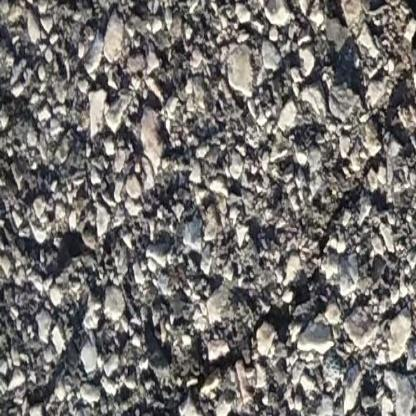Cracks: (137, 144, 388, 416), (0, 173, 99, 277), (394, 0, 416, 48)
